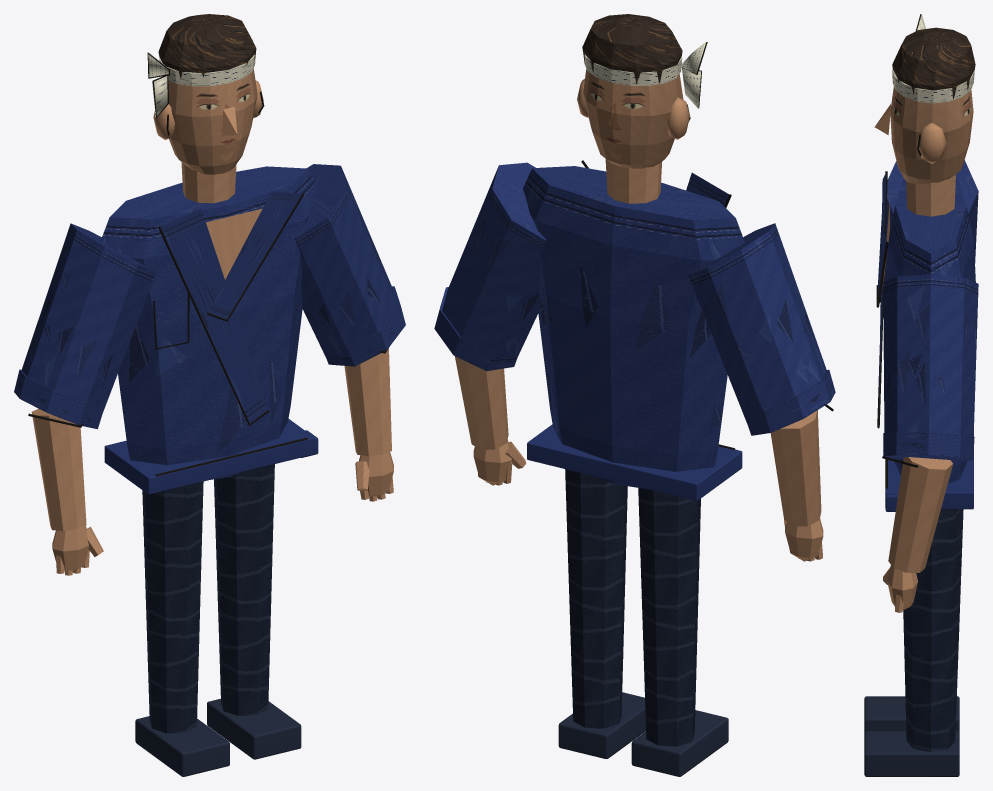
The model's file is sushi-chef.glb.
The picture shows the model from 3 angles, left to right: view 1: azimuth 30°, elevation 25°; view 2: azimuth 150°, elevation 25°; view 3: azimuth 270°, elevation 25°; orthographic projection. The views are drawn at different scales.
Visible parts, largest first — view 1: CHEF · static sushi craftsman · CHEF · indigo woven cotton, CHEF · static sushi craftsman · CHEF · dark work trousers, CHEF · static sushi craftsman · CHEF · painted skin, Chef angular face, Chef swept dark hair, CHEF · static sushi craftsman · CHEF · black seams, CHEF · static sushi craftsman · CHEF · indigo dotted tenugui; view 2: CHEF · static sushi craftsman · CHEF · indigo woven cotton, CHEF · static sushi craftsman · CHEF · dark work trousers, CHEF · static sushi craftsman · CHEF · painted skin, Chef angular face, Chef swept dark hair, CHEF · static sushi craftsman · CHEF · indigo dotted tenugui; view 3: CHEF · static sushi craftsman · CHEF · indigo woven cotton, CHEF · static sushi craftsman · CHEF · dark work trousers, CHEF · static sushi craftsman · CHEF · painted skin, Chef angular face, Chef swept dark hair, CHEF · static sushi craftsman · CHEF · indigo dotted tenugui, CHEF · static sushi craftsman · CHEF · black seams.
Boxes of the visible parts, x1,y1,x2,y2 form: CHEF · static sushi craftsman · CHEF · indigo woven cotton: (14,164,405,494); CHEF · static sushi craftsman · CHEF · dark work trousers: (135,464,301,776); CHEF · static sushi craftsman · CHEF · painted skin: (31,80,393,575); Chef angular face: (168,69,257,174); Chef swept dark hair: (158,14,256,79); CHEF · static sushi craftsman · CHEF · black seams: (28,52,388,476); CHEF · static sushi craftsman · CHEF · indigo dotted tenugui: (148,52,255,116); CHEF · static sushi craftsman · CHEF · indigo woven cotton: (434,162,835,500); CHEF · static sushi craftsman · CHEF · dark work trousers: (558,469,728,776); CHEF · static sushi craftsman · CHEF · painted skin: (455,79,823,561); Chef angular face: (583,69,683,168); Chef swept dark hair: (582,14,682,84); CHEF · static sushi craftsman · CHEF · indigo dotted tenugui: (583,42,705,108); CHEF · static sushi craftsman · CHEF · indigo woven cotton: (878,160,978,511); CHEF · static sushi craftsman · CHEF · dark work trousers: (864,509,963,776); CHEF · static sushi craftsman · CHEF · painted skin: (874,104,955,612); Chef angular face: (890,87,973,183); Chef swept dark hair: (892,27,975,98); CHEF · static sushi craftsman · CHEF · indigo dotted tenugui: (892,14,974,103); CHEF · static sushi craftsman · CHEF · black seams: (876,14,921,489).
Bounding box in the file's own units: 6.51 × 11.69 × 1.7.
7 materials, 6 textured.
